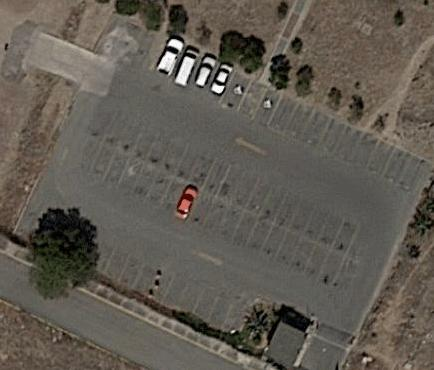parkingspot: (125, 26, 429, 196), (72, 135, 349, 291), (87, 105, 362, 257), (98, 243, 254, 350)
